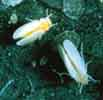whitefly: (57, 39, 93, 87), (11, 10, 54, 47)
